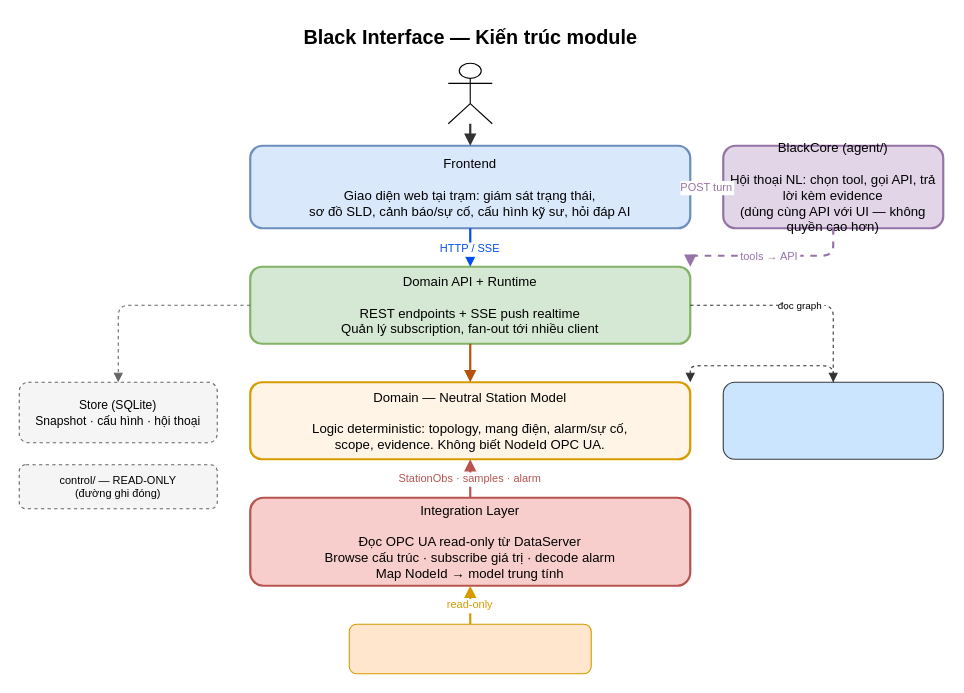
This 964x693 diagram has some shape labels left out. The shapes that lost their labels are listed below. From the top down, each one's box as (x1, y1, x2, y2) in pixels, then its label:
(447, 62, 492, 124): Vận hành viên
(722, 381, 943, 459): Diagram Engine Graph → layout → SVG (SLD deterministic)
(348, 623, 591, 674): OneATS DataServer (OPC UA)
